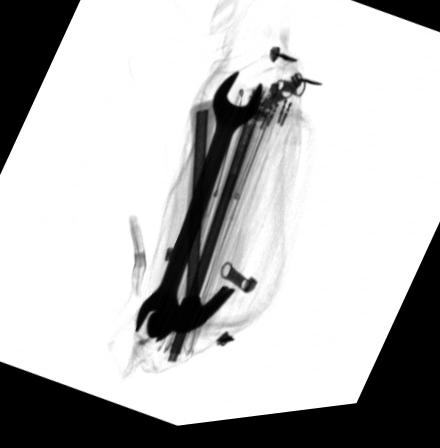Hammer: (151, 103, 235, 338)
Wrench: (133, 77, 265, 346)
